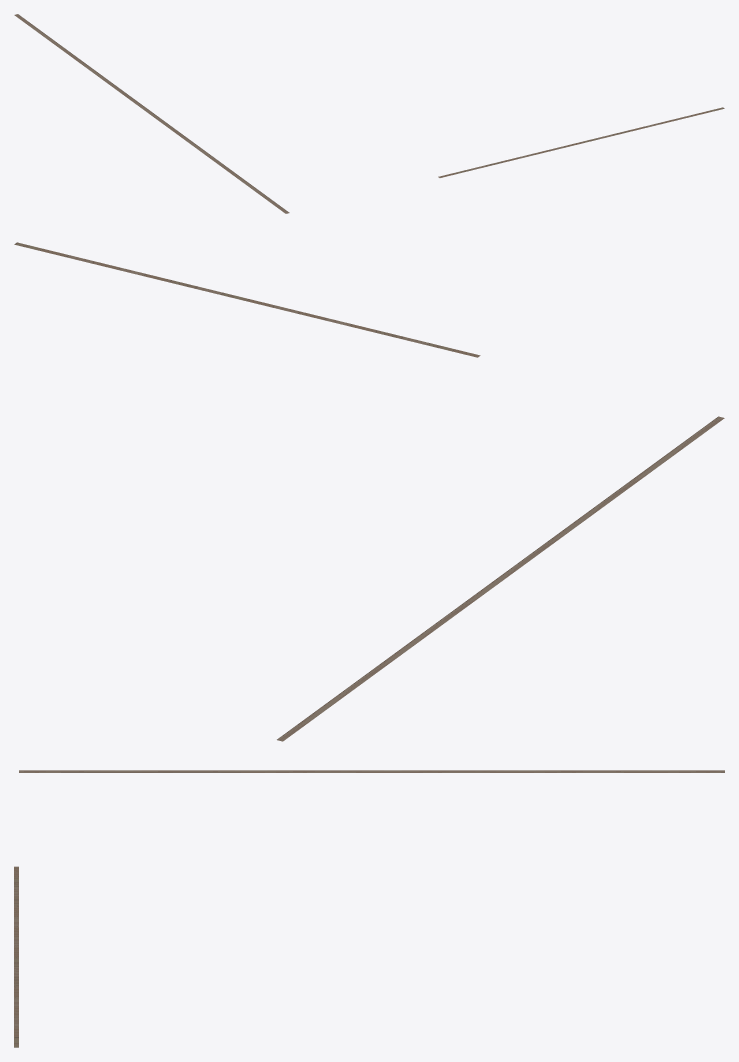
Rendered from kd_stage_135b75_4_21_bounded_portal.glb.
The picture shows the model from 3 angles, top to bottom: view 1: azimuth 30°, elevation 25°; view 2: azimuth 150°, elevation 25°; view 3: azimuth 270°, elevation 25°; orthographic projection. The views are drawn at different scales.
Visible parts, largest first — view 1: kd_stage_135b75_4_21_bounded_portal; view 2: kd_stage_135b75_4_21_bounded_portal; view 3: kd_stage_135b75_4_21_bounded_portal.
Boxes of the visible parts, bbox=[...] form: kd_stage_135b75_4_21_bounded_portal: bbox=[14, 14, 724, 213]; kd_stage_135b75_4_21_bounded_portal: bbox=[14, 242, 724, 741]; kd_stage_135b75_4_21_bounded_portal: bbox=[14, 770, 724, 1047].
Bounding box in the file's own units: 3.53 × 0.000136 × 3.83.
1 material, 1 textured.
